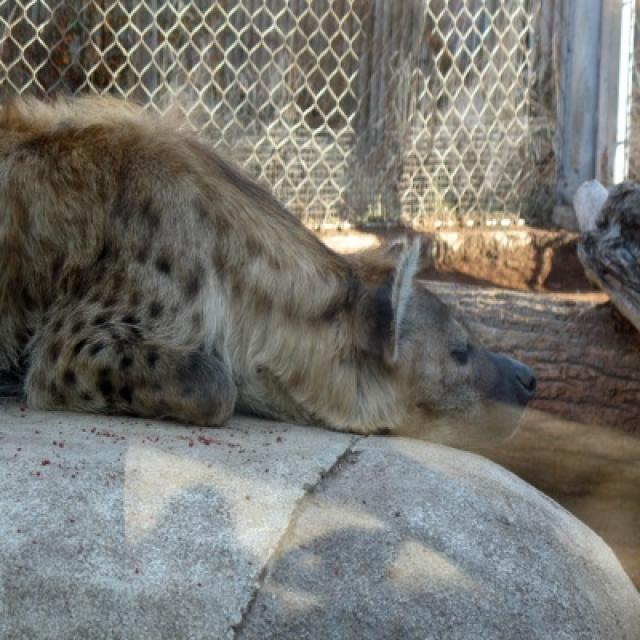hyena: (0, 94, 536, 453)
